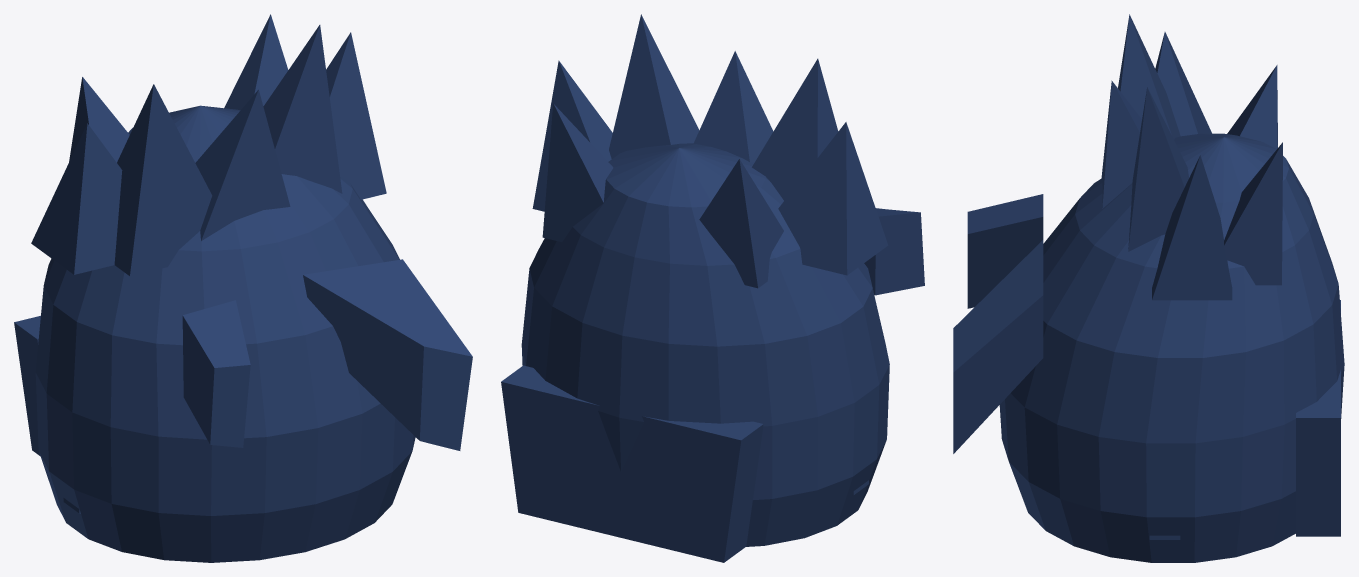
Rendered from hair_girl_choppy_pixie_01.glb.
3 views of the same model, side by side, from view 1: azimuth 30°, elevation 25°; view 2: azimuth 150°, elevation 25°; view 3: azimuth 270°, elevation 25° (orthographic). The views are drawn at different scales.
Visible parts, largest first — view 1: ChoppyPixie_Cap, ChoppyPixie_Diagonal_Front, ChoppyPixie_Spike_LC, ChoppyPixie_Spike_L, ChoppyPixie_Short_Front, ChoppyPixie_Spike_C, ChoppyPixie_Spike_RC, ChoppyPixie_Spike_R, ChoppyPixie_Spike_BackR, ChoppyPixie_Spike_BackL, ChoppyPixie_Nape; view 2: ChoppyPixie_Cap, ChoppyPixie_Nape, ChoppyPixie_Spike_L, ChoppyPixie_Spike_RC, ChoppyPixie_Spike_BackL, ChoppyPixie_Spike_BackR, ChoppyPixie_Spike_LC, ChoppyPixie_Spike_C, ChoppyPixie_Short_Front, ChoppyPixie_Spike_R; view 3: ChoppyPixie_Cap, ChoppyPixie_Diagonal_Front, ChoppyPixie_Spike_R, ChoppyPixie_Nape, ChoppyPixie_Short_Front, ChoppyPixie_Spike_RC, ChoppyPixie_Spike_BackR, ChoppyPixie_Spike_C, ChoppyPixie_Spike_LC, ChoppyPixie_Spike_L, ChoppyPixie_Spike_BackL.
Boxes of the visible parts, bbox=[...] form: ChoppyPixie_Cap: bbox=[35, 105, 415, 562]; ChoppyPixie_Diagonal_Front: bbox=[303, 259, 472, 450]; ChoppyPixie_Spike_LC: bbox=[114, 84, 212, 276]; ChoppyPixie_Spike_L: bbox=[31, 123, 122, 274]; ChoppyPixie_Short_Front: bbox=[182, 300, 250, 447]; ChoppyPixie_Spike_C: bbox=[195, 89, 290, 240]; ChoppyPixie_Spike_RC: bbox=[263, 25, 342, 193]; ChoppyPixie_Spike_R: bbox=[326, 32, 386, 199]; ChoppyPixie_Spike_BackR: bbox=[224, 14, 288, 110]; ChoppyPixie_Spike_BackL: bbox=[69, 77, 129, 162]; ChoppyPixie_Nape: bbox=[14, 315, 40, 456]; ChoppyPixie_Cap: bbox=[521, 143, 889, 546]; ChoppyPixie_Nape: bbox=[501, 365, 763, 562]; ChoppyPixie_Spike_L: bbox=[778, 122, 888, 275]; ChoppyPixie_Spike_RC: bbox=[609, 14, 699, 158]; ChoppyPixie_Spike_BackL: bbox=[699, 159, 783, 288]; ChoppyPixie_Spike_BackR: bbox=[542, 104, 613, 241]; ChoppyPixie_Spike_LC: bbox=[752, 58, 838, 200]; ChoppyPixie_Spike_C: bbox=[693, 51, 773, 162]; ChoppyPixie_Short_Front: bbox=[864, 208, 924, 295]; ChoppyPixie_Spike_R: bbox=[532, 60, 612, 211]; ChoppyPixie_Cap: bbox=[999, 133, 1344, 562]; ChoppyPixie_Diagonal_Front: bbox=[953, 240, 1043, 453]; ChoppyPixie_Spike_R: bbox=[1152, 155, 1232, 300]; ChoppyPixie_Nape: bbox=[1296, 300, 1340, 536]; ChoppyPixie_Short_Front: bbox=[967, 194, 1043, 308]; ChoppyPixie_Spike_RC: bbox=[1128, 87, 1188, 251]; ChoppyPixie_Spike_BackR: bbox=[1224, 142, 1282, 285]; ChoppyPixie_Spike_C: bbox=[1101, 80, 1141, 208]; ChoppyPixie_Spike_LC: bbox=[1118, 14, 1180, 139]; ChoppyPixie_Spike_L: bbox=[1155, 32, 1211, 136]; ChoppyPixie_Spike_BackL: bbox=[1227, 65, 1277, 148].
Size of the model in its own units: 0.3204 by 0.414 by 0.331.
